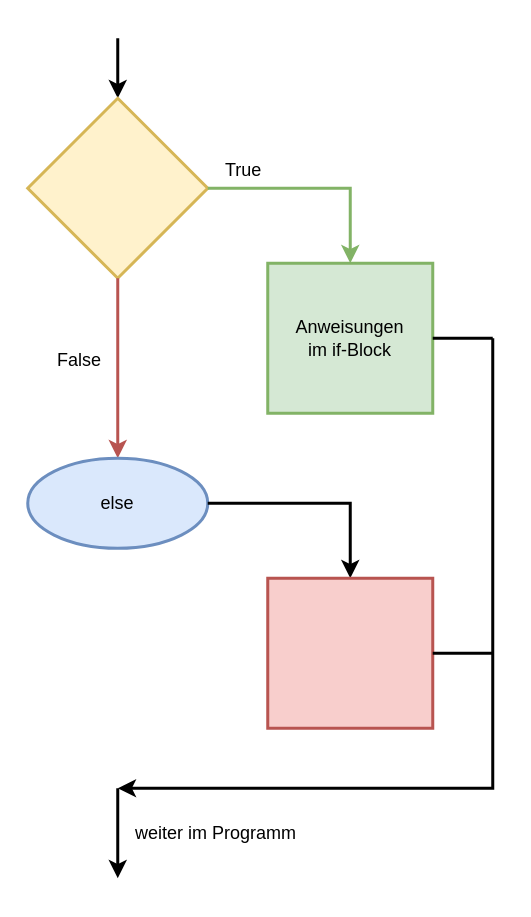
Image size: 531x917. Some labels were removed from this diagram. The box of each missing label's shape, as (x1, y1, x2, y2) in pixels:
Anweisungen im else-Block: (266, 576, 434, 729)
if Bedingung: (26, 96, 208, 279)
